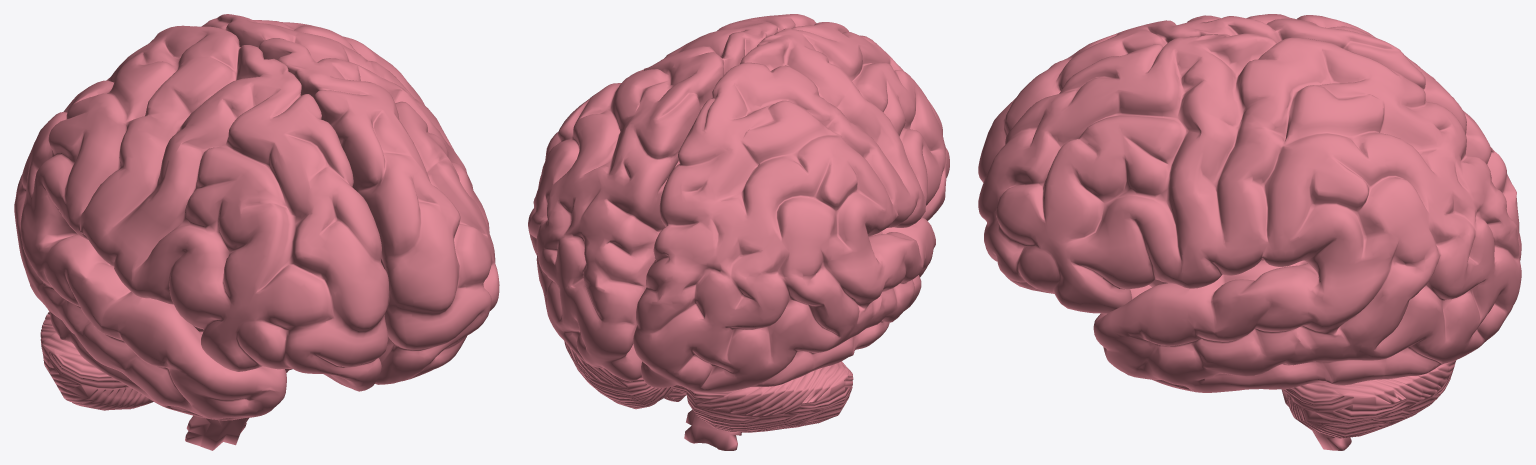
File: brain.gltf
The picture shows the model from 3 angles, left to right: view 1: azimuth 30°, elevation 25°; view 2: azimuth 150°, elevation 25°; view 3: azimuth 270°, elevation 25°; orthographic projection. The views are drawn at different scales.
Parts seen in each view (by area): view 1: Brain_Part_06, Brain_Part_04, Brain_Part_02, Brain_Part_05; view 2: Brain_Part_06, Brain_Part_04, Brain_Part_02, Brain_Part_05; view 3: Brain_Part_04, Brain_Part_06, Brain_Part_02, Brain_Part_05.
Part boxes in pixels (x1,y1,x2,y2): Brain_Part_06: (14,25,388,420); Brain_Part_04: (201,14,499,384); Brain_Part_02: (40,312,292,410); Brain_Part_05: (185,326,289,450); Brain_Part_06: (633,22,949,392); Brain_Part_04: (528,14,816,381); Brain_Part_02: (564,341,853,432); Brain_Part_05: (684,409,741,450); Brain_Part_04: (978,33,1521,392); Brain_Part_06: (978,14,1521,260); Brain_Part_02: (1283,360,1456,438); Brain_Part_05: (1149,259,1351,450).
Bounding box in the file's own units: 3.8 × 4.02 × 4.73.
